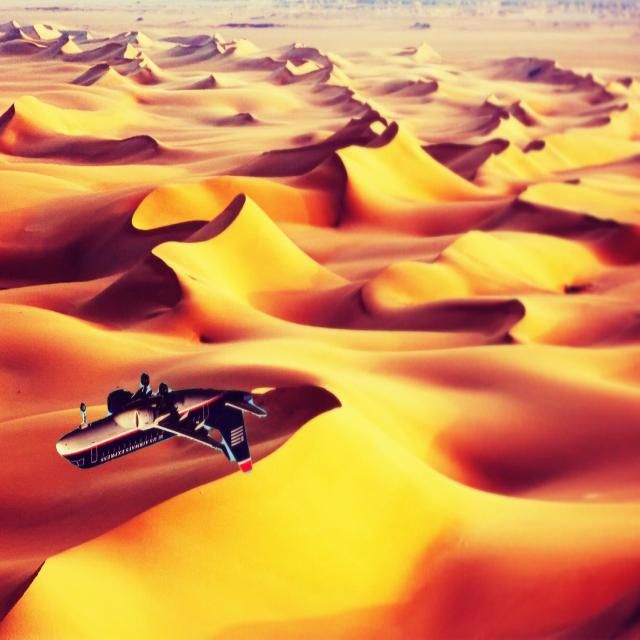airplane: (55, 371, 267, 474)
